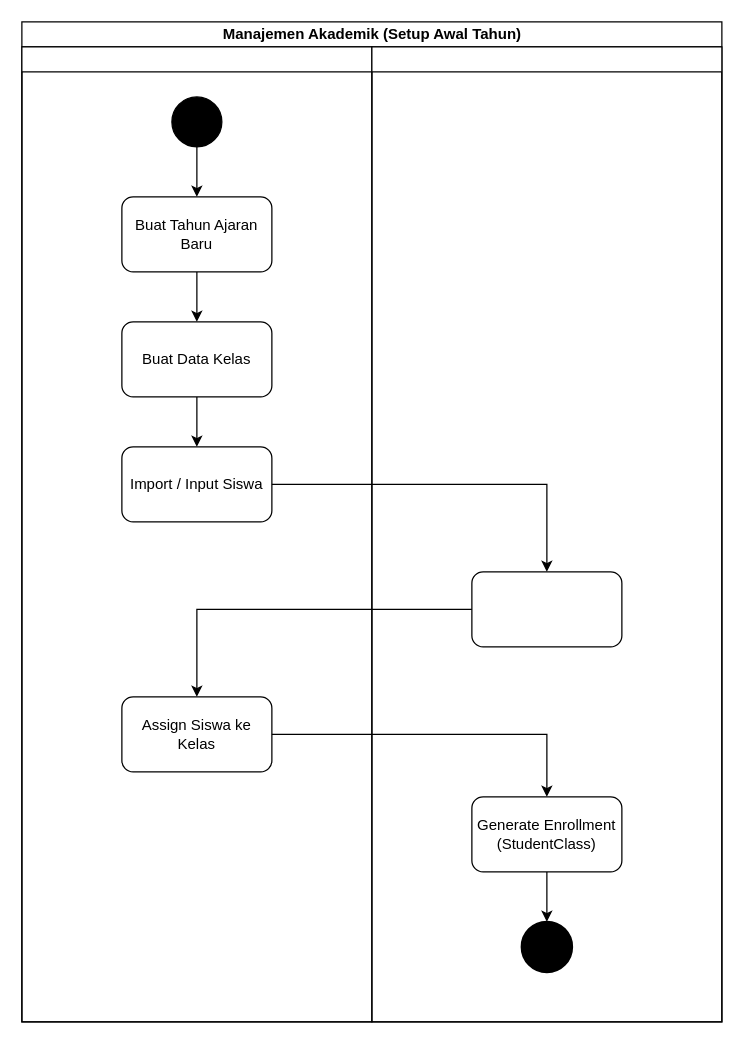
This 744x1044 diagram has some shape labels left out. The box of each missing label's shape, as (x1, y1, x2, y2) in pixels:
Admin / TU: (21, 46, 372, 1022)
Sistem: (371, 46, 722, 1022)
Validasi Data Siswa: (471, 571, 622, 647)
